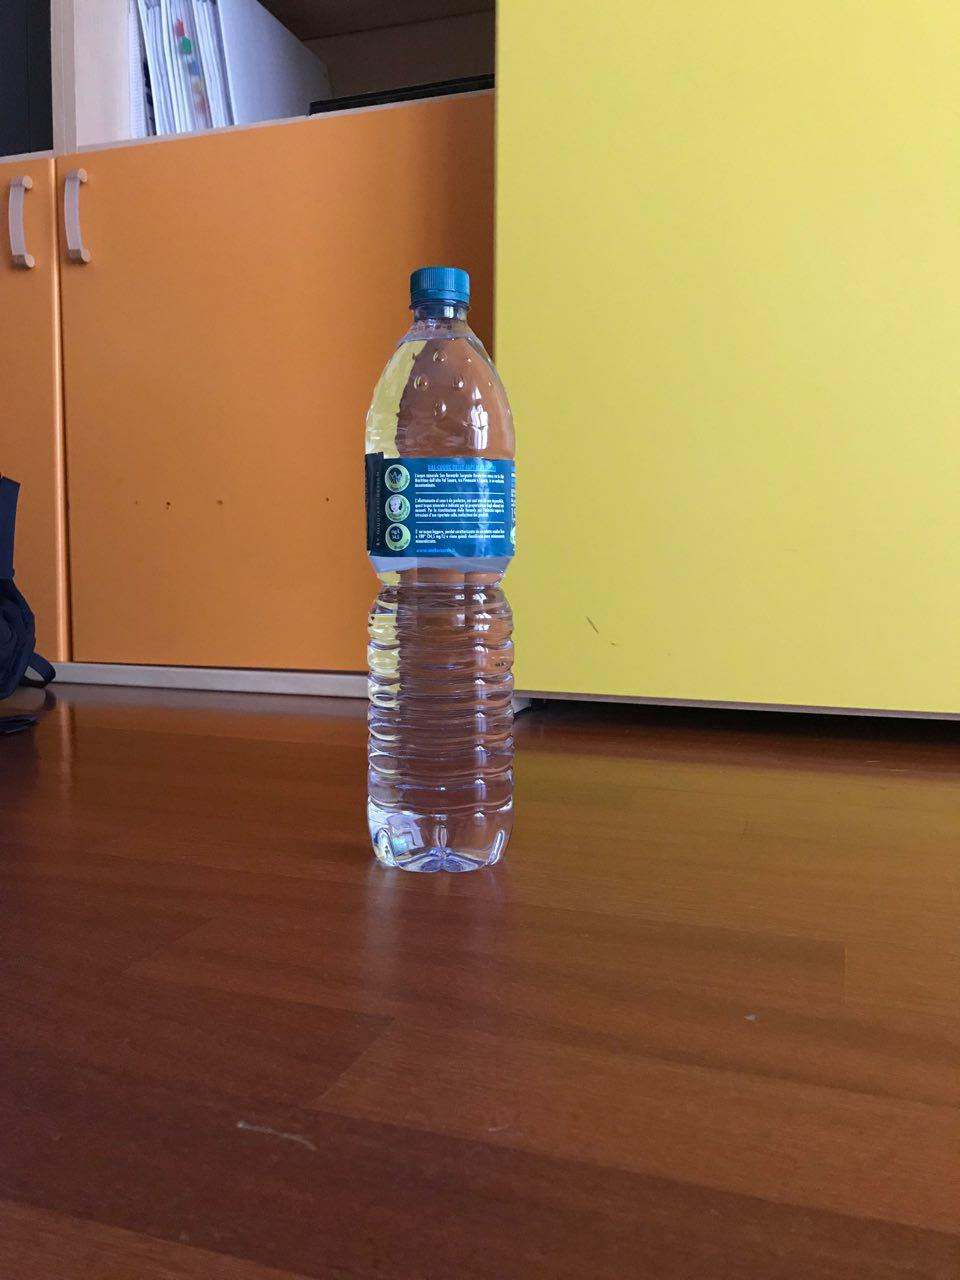san_bernardo: (361, 265, 519, 877)
